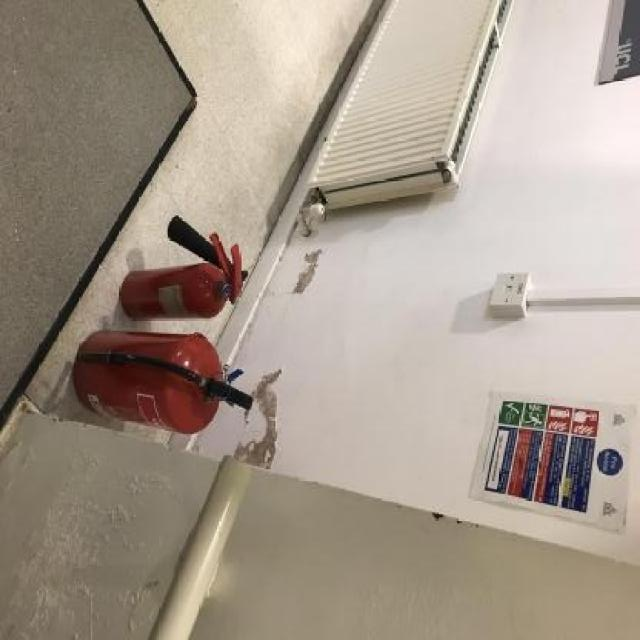fire extinguisher: (73, 328, 253, 434), (121, 216, 248, 321)
